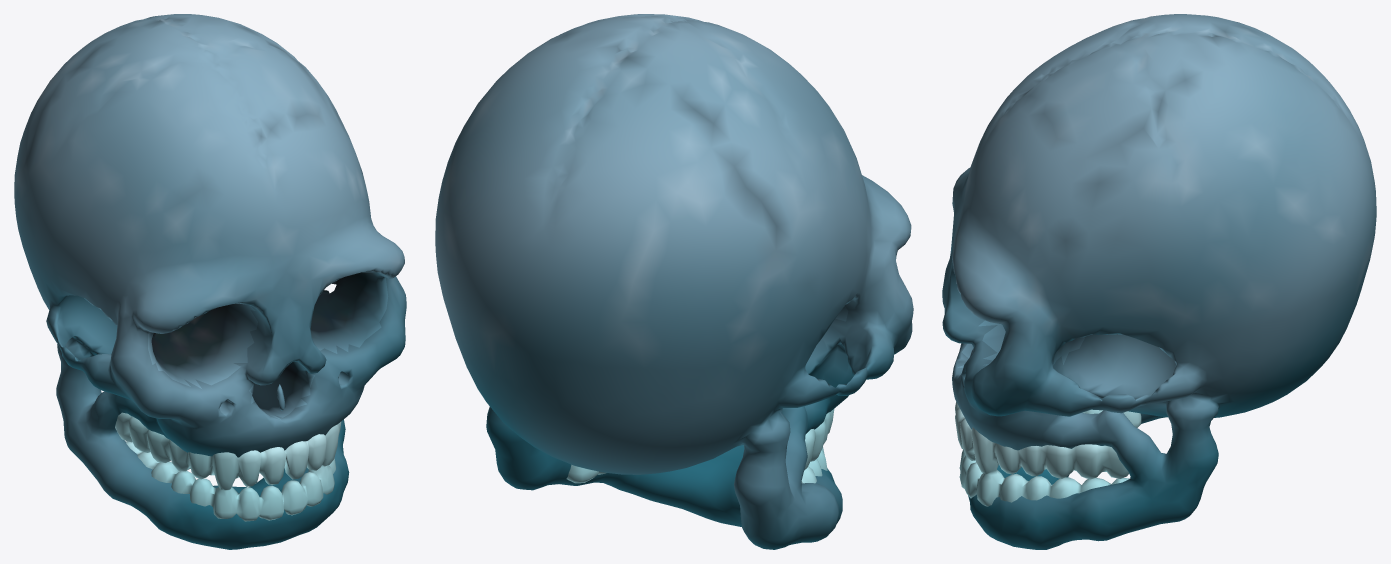
File: warden-ice-skull-v1.glb
The picture shows the model from 3 angles, left to right: view 1: azimuth 30°, elevation 25°; view 2: azimuth 150°, elevation 25°; view 3: azimuth 270°, elevation 25°; orthographic projection. The views are drawn at different scales.
Visible parts, largest first — view 1: Glacial bone, Frosted enamel; view 2: Glacial bone, Frosted enamel; view 3: Glacial bone, Frosted enamel.
Part boxes in pixels (x1=…): Glacial bone: x1=14, y1=14, x2=406, y2=549; Frosted enamel: x1=115, y1=412, x2=341, y2=521; Glacial bone: x1=435, y1=14, x2=913, y2=549; Frosted enamel: x1=566, y1=409, x2=834, y2=483; Glacial bone: x1=942, y1=14, x2=1376, y2=549; Frosted enamel: x1=955, y1=402, x2=1141, y2=506.
Bounding box in the file's own units: 1.51 × 2.18 × 1.74.
